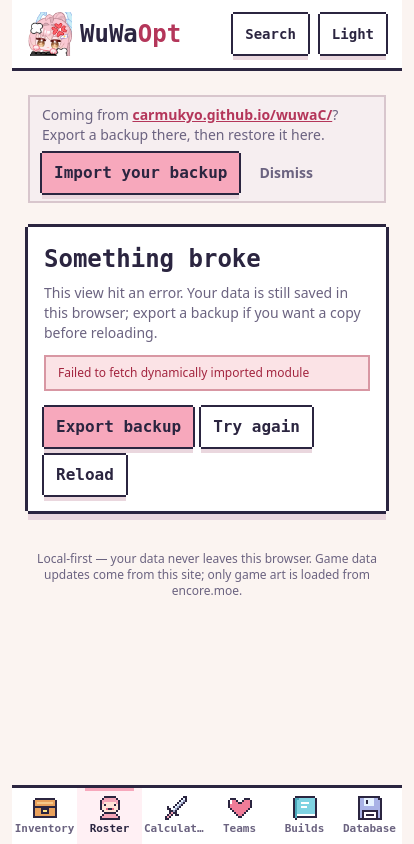
Test case: per-section error boundary › keeps the nav alive when a page chunk fails to load
The image size is (414, 844).
Expected: the message that starts with "Something broke" is shown, [44, 245, 261, 273]
# The shell survived: navigating away renders the next section.
Click the button "Inventory": click(44, 816) [12, 788, 77, 843]
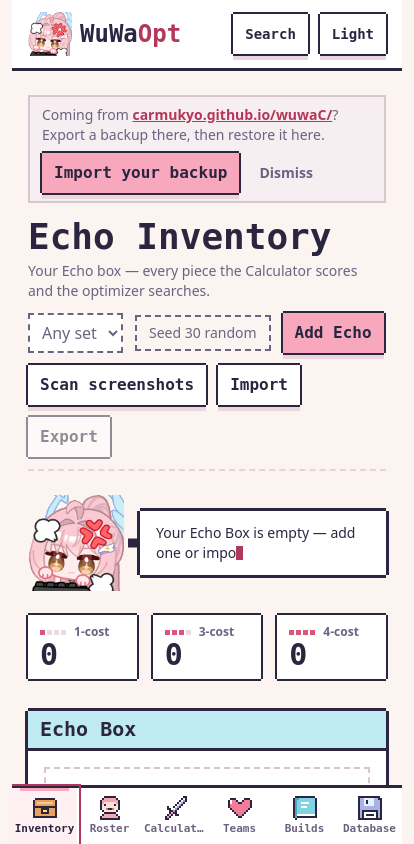
Expected: the heading "Echo Inventory" is shown, [28, 216, 331, 257]
